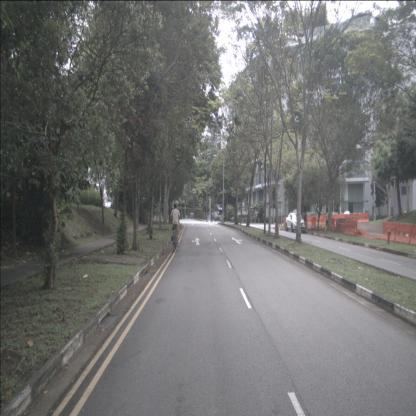human-pedestrian-adult: (304, 210, 308, 232)
movable_object-barrier: (394, 222, 413, 244), (382, 221, 396, 242), (344, 220, 358, 236), (409, 224, 416, 246), (332, 214, 345, 225), (357, 213, 369, 223), (345, 214, 357, 223), (316, 215, 326, 225), (306, 216, 316, 225), (311, 217, 316, 230)
vehicle-bicycle: (170, 202, 181, 252)
vehicle-bus-rigid: (213, 204, 225, 222)
vehicle-car: (285, 212, 306, 234)
